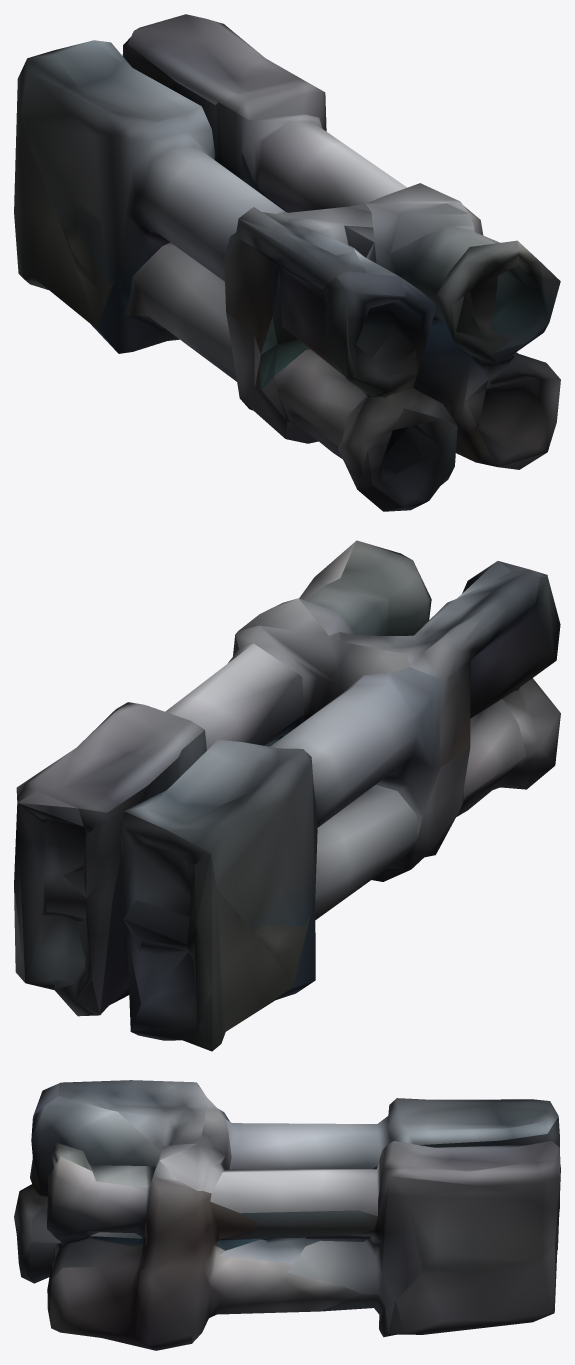
File: cargo_piece_6.glb
3 renders of one model, top to bottom at view 1: azimuth 30°, elevation 25°; view 2: azimuth 150°, elevation 25°; view 3: azimuth 270°, elevation 25°, orthographic. The views are drawn at different scales.
Visible parts, largest first — view 1: cargo_6; view 2: cargo_6; view 3: cargo_6.
Boxes of the visible parts, x1,y1,x2,y2 form: cargo_6: (14, 14, 560, 511); cargo_6: (14, 540, 560, 1051); cargo_6: (14, 1080, 560, 1350).
Bounding box in the file's own units: 0.0407 × 0.0406 × 0.1038.
Materials: 1 (1 with a texture image).
